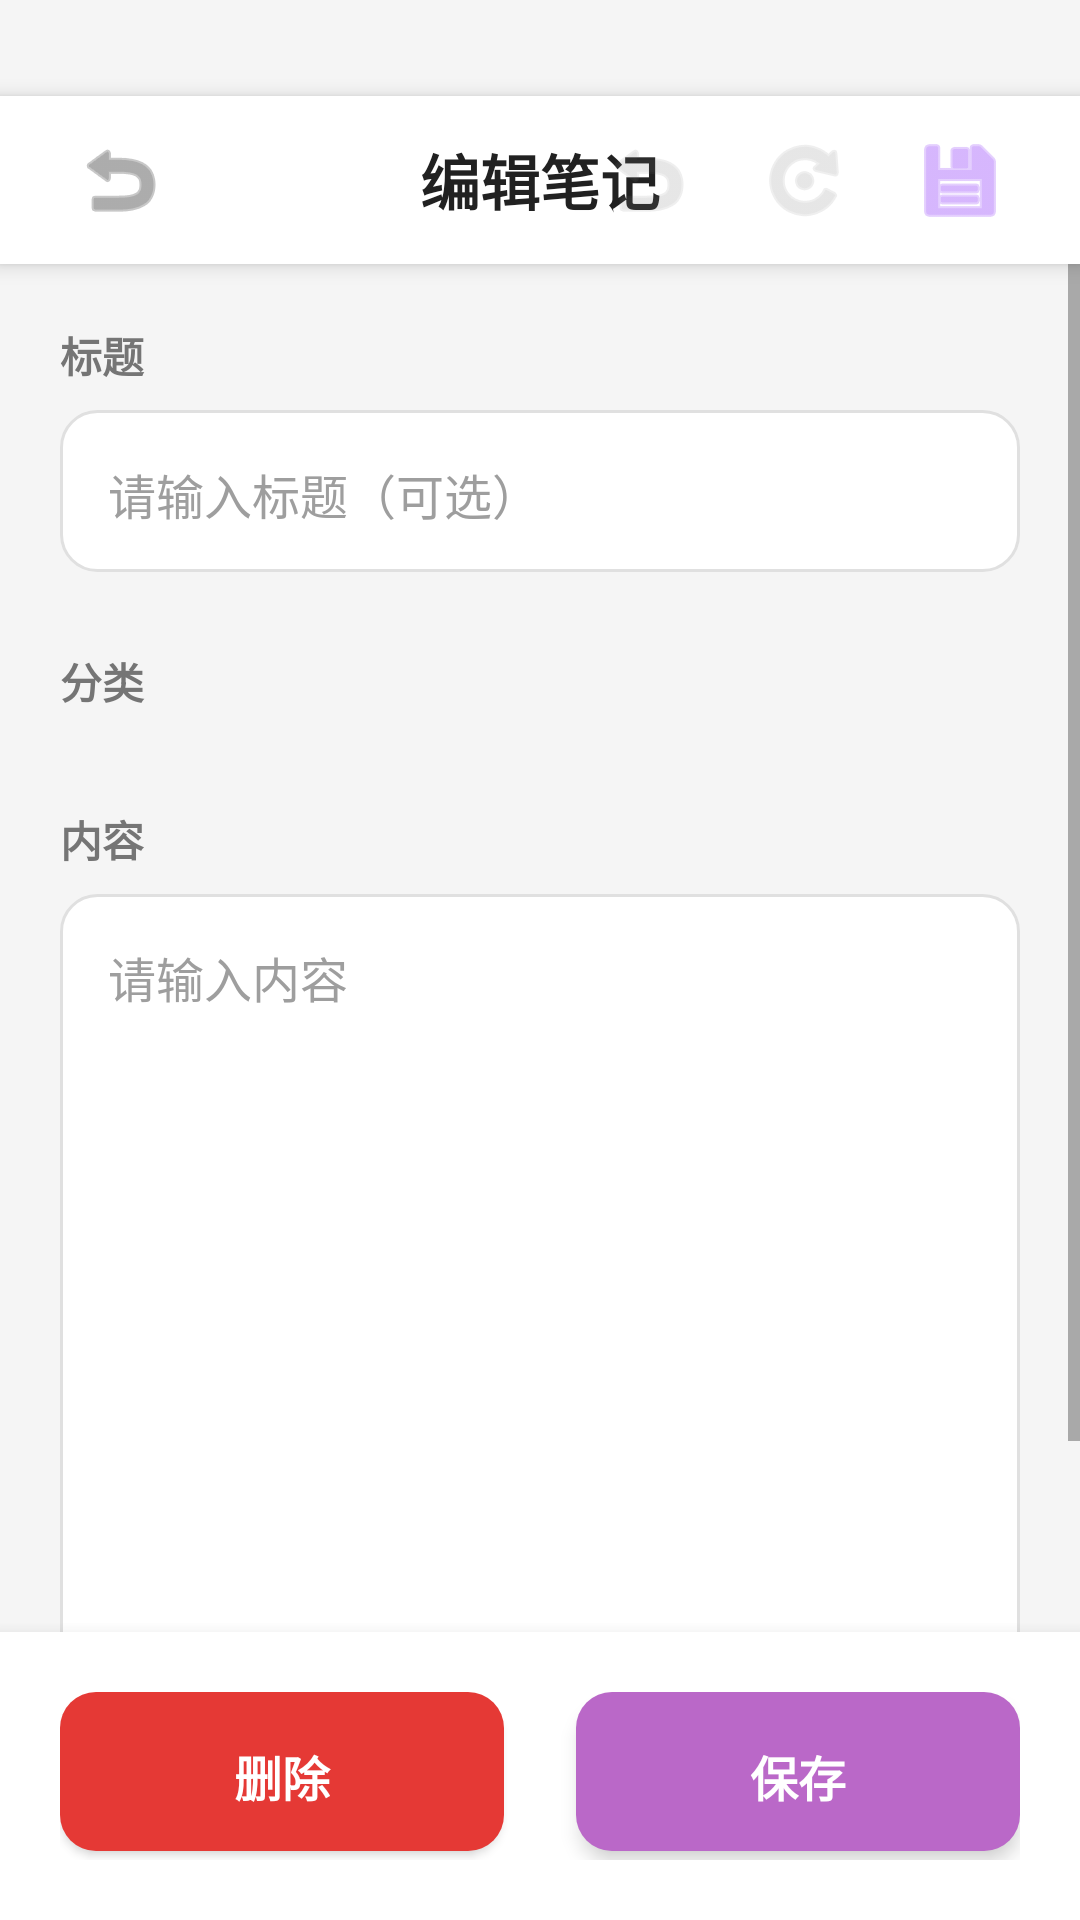

Icons on this 1080px×1920px Android screen, each with the point to tap as [x,y]:
返回: [121,181]
重做: [804,180]
